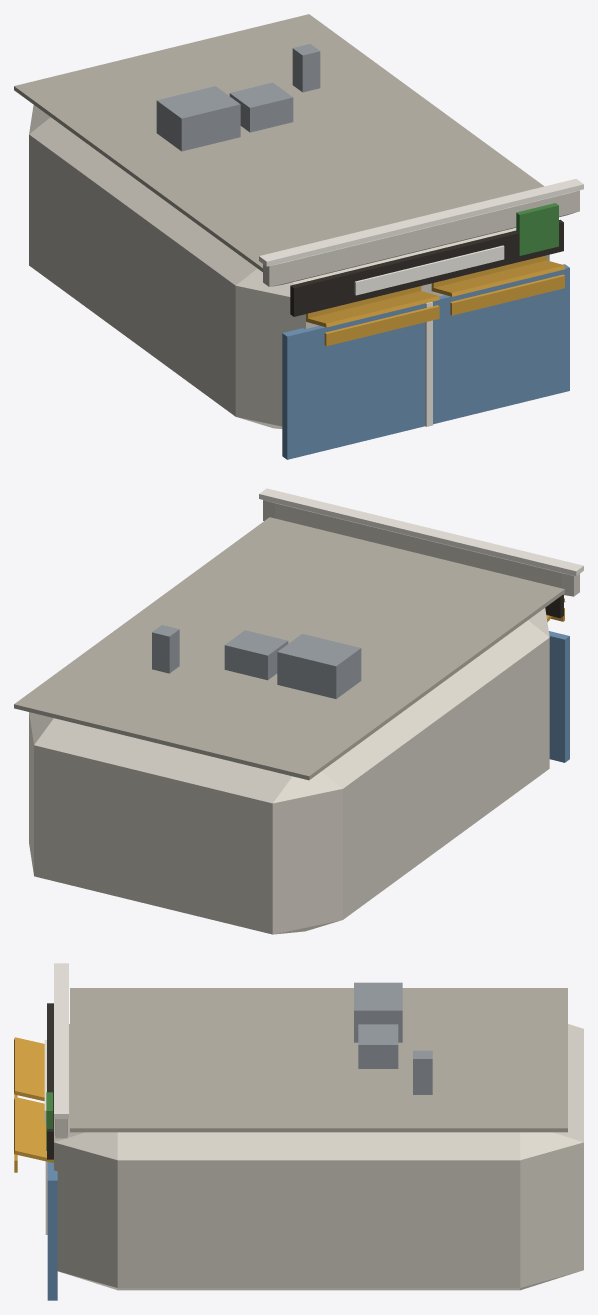
The model's file is dispensary.glb.
The picture shows the model from 3 angles, top to bottom: view 1: azimuth 30°, elevation 25°; view 2: azimuth 150°, elevation 25°; view 3: azimuth 270°, elevation 25°; orthographic projection. The views are drawn at different scales.
Parts seen in each view (by area): view 1: roofslab, walls, shopglass, parapet, fascia, hvac, pcap, hvac2, fasciatx, crosssign, valance, awn (+6 smaller); view 2: walls, roofslab, parapet, hvac, pcap, shopglass, hvac2, pipe; view 3: walls, roofslab, pcap, hvac, awn.001, hvac2, awn, shopglass, pipe, fascia.
Part boxes in pixels (<box>): roofslab: <box>14,14,544,271</box>; walls: <box>29,105,549,428</box>; shopglass: <box>282,264,569,459</box>; parapet: <box>263,190,579,286</box>; fascia: <box>290,219,563,316</box>; hvac: <box>156,86,240,151</box>; pcap: <box>259,179,583,266</box>; hvac2: <box>229,82,293,132</box>; fasciatx: <box>354,245,504,295</box>; crosssign: <box>516,203,558,255</box>; valance: <box>324,305,439,346</box>; awn: <box>306,291,439,327</box>; walls: <box>29,608,549,934</box>; roofslab: <box>14,517,564,780</box>; parapet: <box>263,500,579,596</box>; hvac: <box>277,634,361,698</box>; pcap: <box>259,488,583,576</box>; shopglass: <box>549,631,569,762</box>; hvac2: <box>224,630,288,680</box>; pipe: <box>152,625,179,673</box>; walls: <box>54,1024,583,1290</box>; roofslab: <box>70,988,567,1132</box>; pcap: <box>54,963,68,1118</box>; hvac: <box>354,982,402,1042</box>; awn.001: <box>14,1097,53,1162</box>; hvac2: <box>358,1024,398,1068</box>; awn: <box>14,1037,44,1101</box>; shopglass: <box>47,1162,57,1300</box>; pipe: <box>413,1050,432,1094</box>; fascia: <box>47,1003,53,1159</box>.
Bounding box in the file's own units: 8.08 × 5.3 × 12.91.
